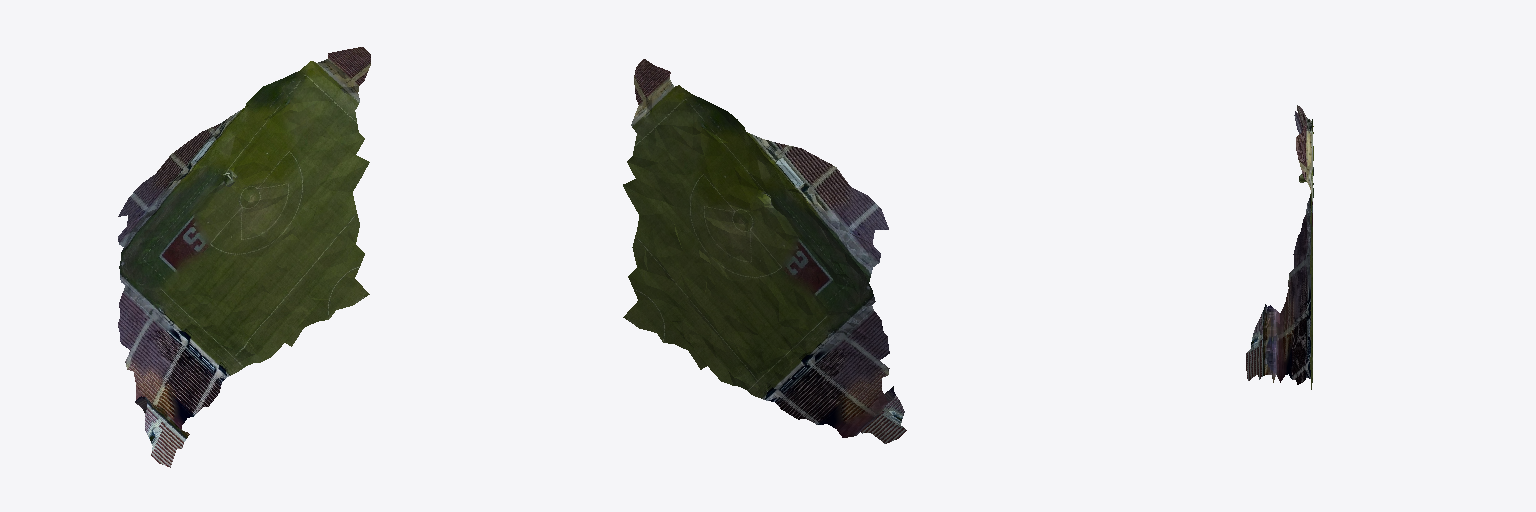
The picture shows the model from 3 angles: view 1: azimuth 30°, elevation 25°; view 2: azimuth 150°, elevation 25°; view 3: azimuth 270°, elevation 25°; orthographic projection.
Bounding box in the file's own units: 71.31 × 91.98 × 16.27.
1 materials, 1 textured.